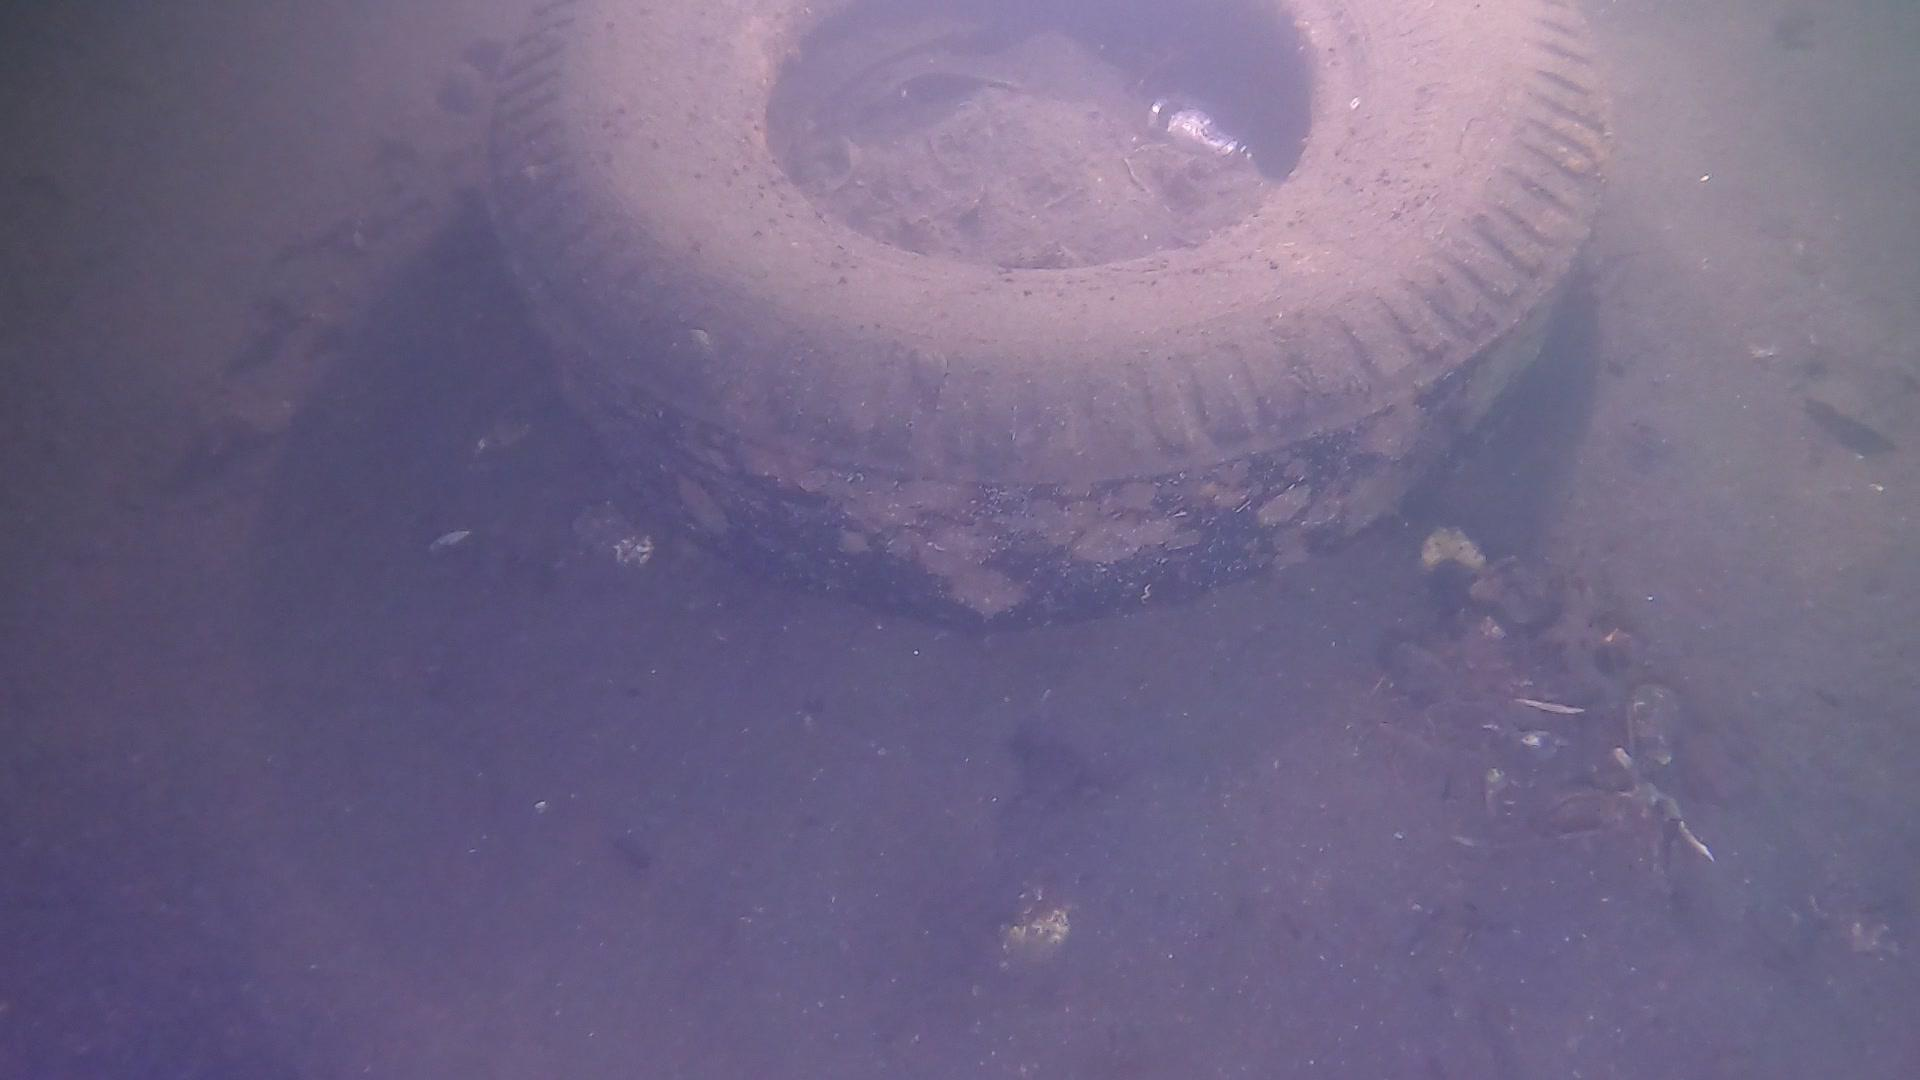tire: (473, 0, 1607, 626)
